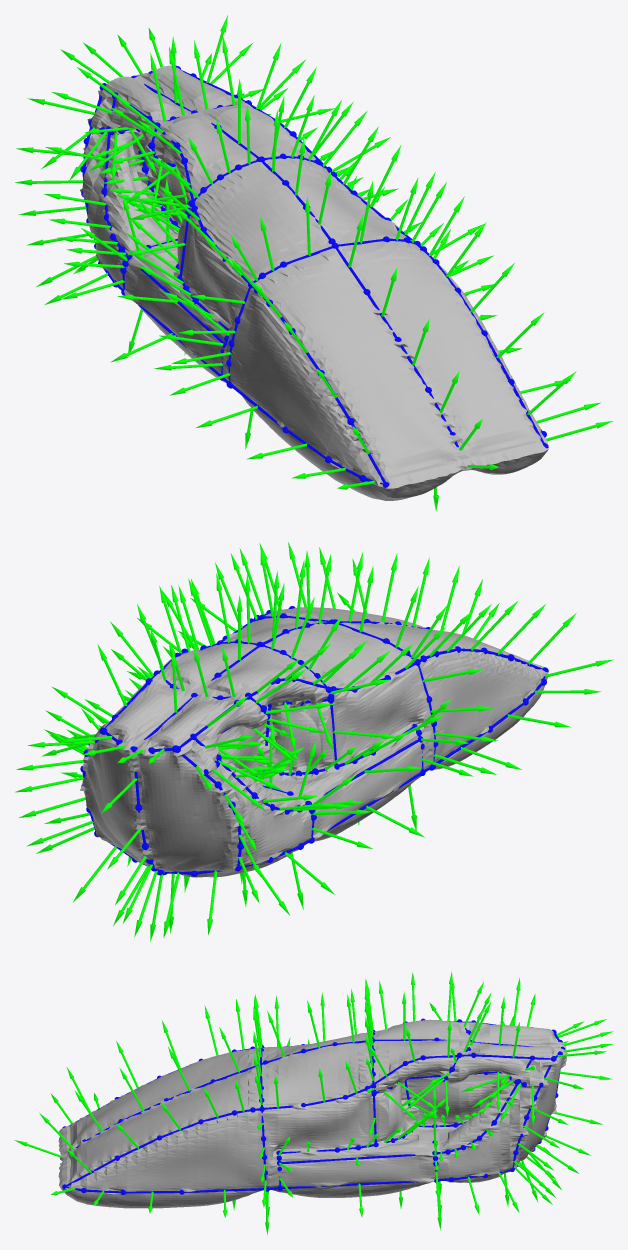
File: t2f_hand_vacuum.gltf
3 renders of one model, top to bottom at view 1: azimuth 30°, elevation 25°; view 2: azimuth 150°, elevation 25°; view 3: azimuth 270°, elevation 25°, orthographic. The views are drawn at different scales.
Size of the model in its own units: 0.5217 by 0.4443 by 1.1.
